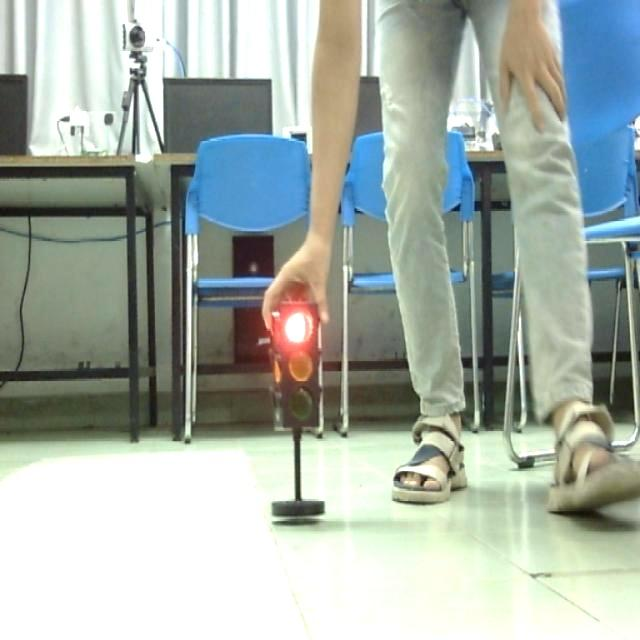Red: (268, 303, 320, 437)
